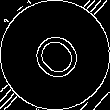O_SE: (22, 22, 88, 88)
